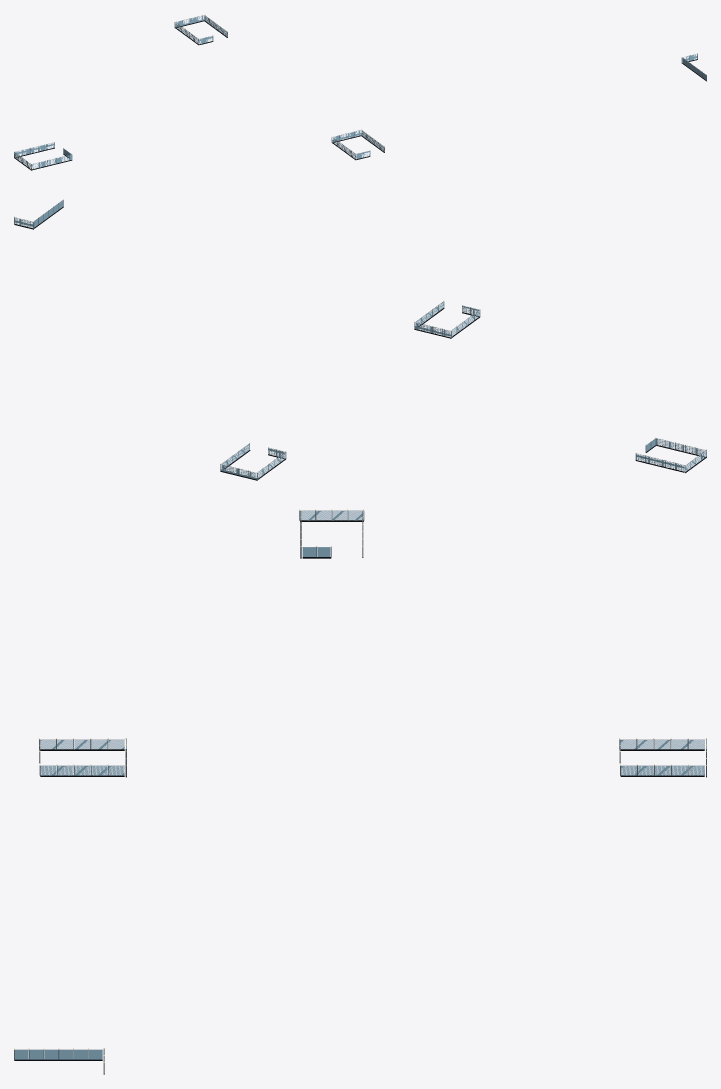
Rendered from tt_struct_guards_cores_f3.glb.
3 renders of one model, top to bottom at view 1: azimuth 30°, elevation 25°; view 2: azimuth 150°, elevation 25°; view 3: azimuth 270°, elevation 25°, orthographic. The views are drawn at different scales.
Parts seen in each view (by area): view 1: Guard_Pane_Scissor, Guard_Kerb, Guard_Posts; view 2: Guard_Pane_Scissor, Guard_Kerb, Guard_Posts; view 3: Guard_Pane_Scissor, Guard_Kerb.
Boxes of the visible parts, <box> form: Guard_Pane_Scissor: <box>14,15,706,169</box>; Guard_Kerb: <box>14,20,706,170</box>; Guard_Posts: <box>14,15,706,169</box>; Guard_Pane_Scissor: <box>14,200,706,479</box>; Guard_Kerb: <box>14,206,706,480</box>; Guard_Posts: <box>14,200,706,479</box>; Guard_Pane_Scissor: <box>15,511,704,1059</box>; Guard_Kerb: <box>14,520,706,1074</box>.
Size of what is drawn, in the model's own units: 112 by 1.16 by 59.49.
5 materials, 4 textured.
